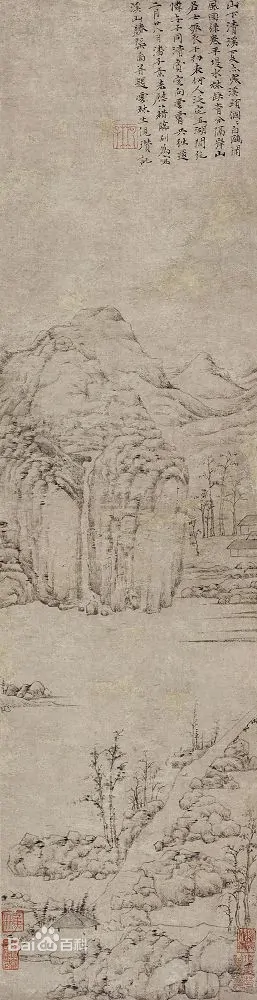booth: (43, 901, 107, 944)
house: (227, 518, 257, 558)
mountain: (7, 301, 257, 624)
rock: (65, 943, 242, 997), (8, 829, 129, 884), (129, 845, 218, 911), (177, 776, 244, 846), (3, 670, 55, 712)
tree: (77, 728, 161, 831), (218, 813, 254, 947)
